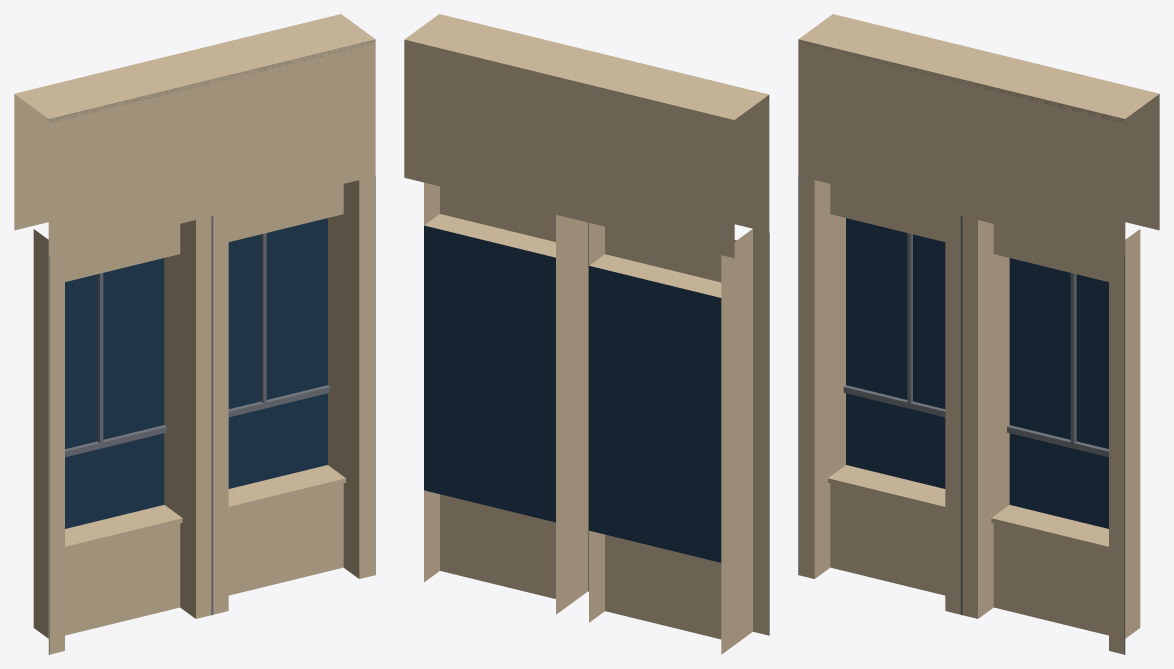
The model's file is top-w1_close.fbx.
3 renders of one model, left to right at view 1: azimuth 30°, elevation 25°; view 2: azimuth 150°, elevation 25°; view 3: azimuth 330°, elevation 25°, orthographic.
Parts seen in each view (by area): view 1: a2012/400/top-w1_close; view 2: a2012/400/top-w1_close; view 3: a2012/400/top-w1_close.
Part boxes in pixels (bbox=[...]): a2012/400/top-w1_close: bbox=[14, 14, 375, 654]; a2012/400/top-w1_close: bbox=[404, 14, 769, 654]; a2012/400/top-w1_close: bbox=[798, 14, 1159, 654].
Size of the model in its own units: 3 by 4.7 by 0.552.
